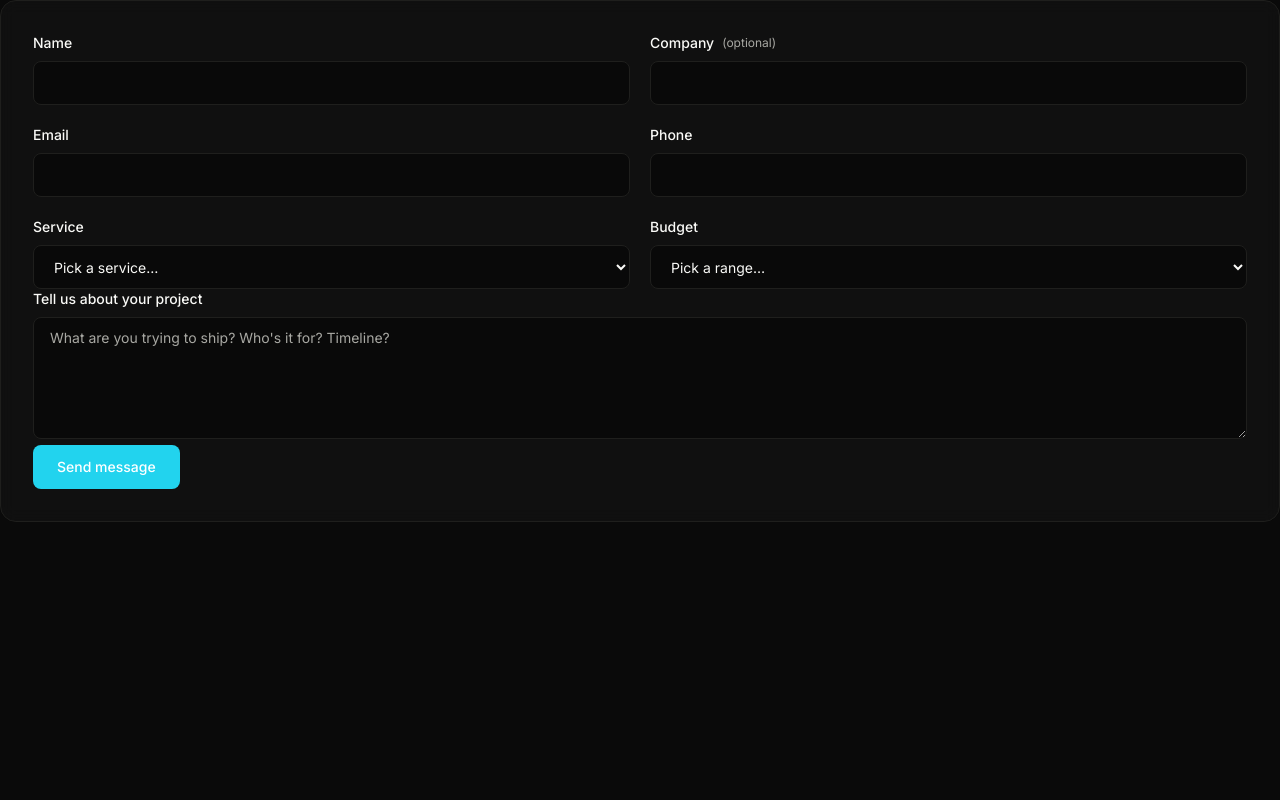
it: ContactForm — validation errors › shows Name error on empty submit
The width and height of the screenshot is (1280, 800).
Click the button "Send message".
click(106, 467)  # box [33,445,180,489]
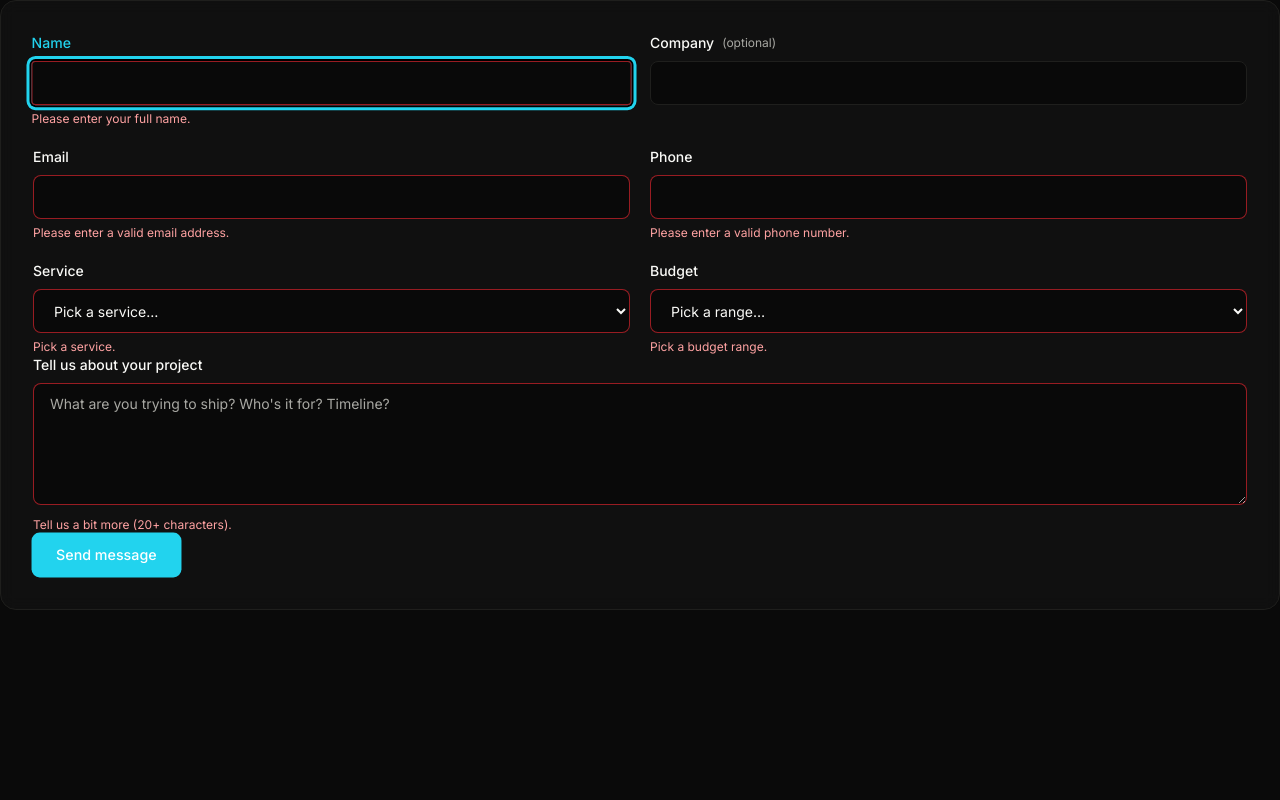
Expected: the text "Please enter your full name." is shown, [32,111,190,126]
